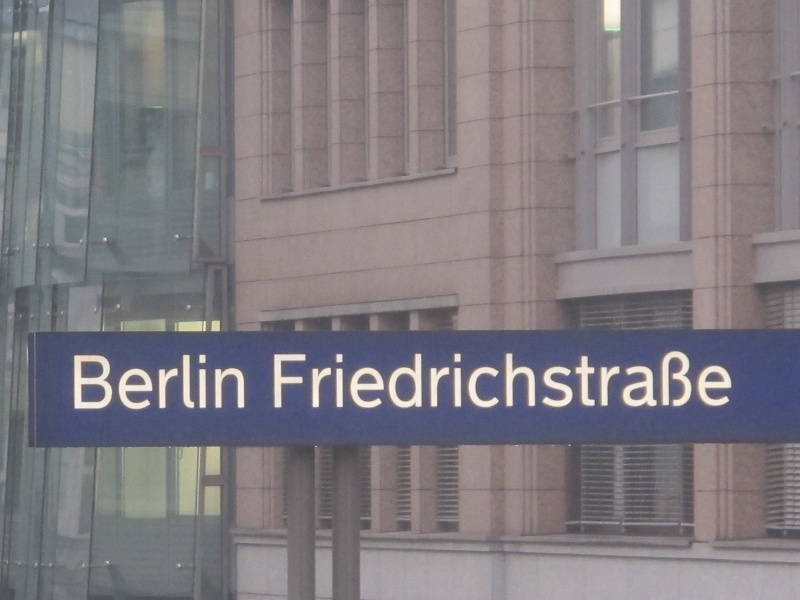text: (273, 351, 288, 414), (289, 351, 304, 414), (305, 351, 320, 414), (321, 351, 336, 414), (337, 351, 352, 414), (353, 351, 368, 414), (369, 351, 384, 414), (385, 351, 400, 414), (401, 351, 416, 414), (417, 351, 432, 414), (433, 351, 448, 414), (449, 351, 464, 414), (465, 351, 480, 414), (481, 351, 496, 414), (497, 351, 512, 414), (513, 351, 528, 414), (529, 351, 544, 414), (545, 351, 560, 414), (561, 351, 576, 414), (577, 351, 592, 414), (593, 351, 608, 414), (609, 351, 624, 414), (625, 351, 640, 414), (641, 351, 656, 414), (657, 351, 672, 414), (673, 351, 688, 414), (689, 351, 704, 414), (705, 351, 720, 414), (81, 354, 96, 413), (97, 354, 112, 413), (113, 354, 128, 413), (129, 354, 144, 413), (145, 354, 160, 413), (161, 354, 176, 413), (177, 354, 192, 413), (193, 354, 208, 413), (209, 354, 224, 413), (225, 354, 240, 413), (721, 351, 734, 414), (73, 354, 80, 413), (241, 354, 247, 413)
